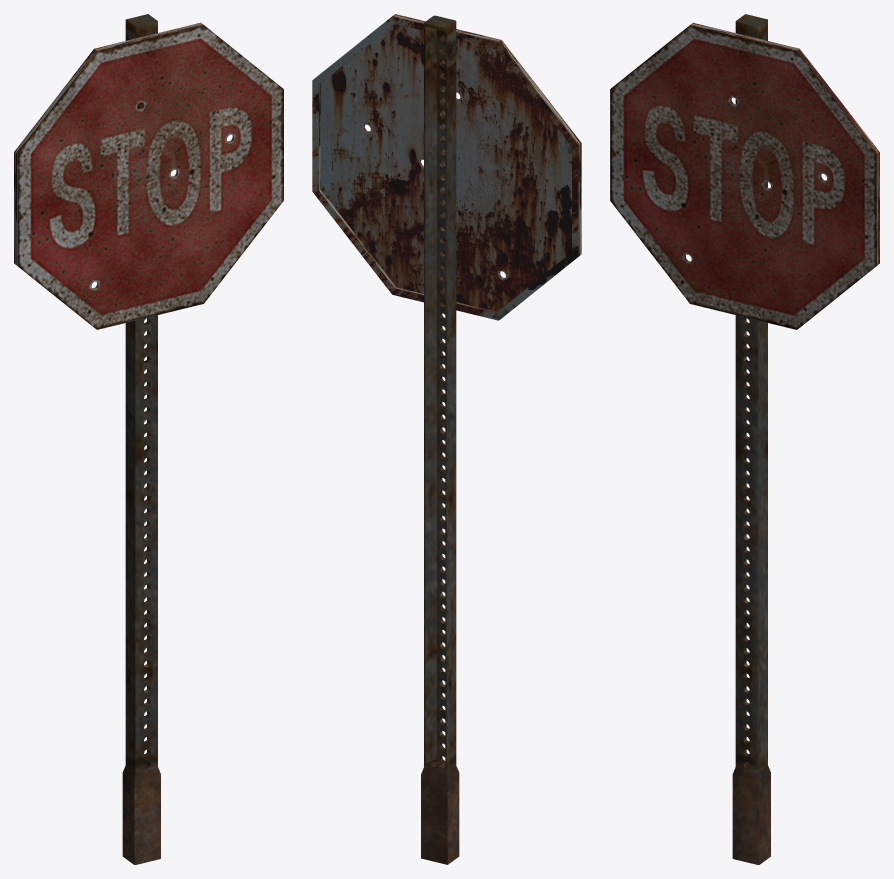
The picture shows the model from 3 angles, left to right: view 1: azimuth 30°, elevation 25°; view 2: azimuth 150°, elevation 25°; view 3: azimuth 330°, elevation 25°; orthographic projection.
Visible parts, largest first — view 1: Stop Sign_01 - Default_0, Stop Sign_08 - Default_0, Stop Sign_07 - Default_0, Stop Sign_02 - Default_0; view 2: Stop Sign_02 - Default_0, Stop Sign_08 - Default_0, Stop Sign_07 - Default_0; view 3: Stop Sign_01 - Default_0, Stop Sign_08 - Default_0, Stop Sign_07 - Default_0, Stop Sign_02 - Default_0.
Boxes of the visible parts, <box> form: Stop Sign_01 - Default_0: <box>17,25,283,329</box>; Stop Sign_08 - Default_0: <box>125,14,157,772</box>; Stop Sign_07 - Default_0: <box>122,765,160,864</box>; Stop Sign_02 - Default_0: <box>14,22,203,325</box>; Stop Sign_02 - Default_0: <box>312,14,581,320</box>; Stop Sign_08 - Default_0: <box>424,15,456,772</box>; Stop Sign_07 - Default_0: <box>421,766,459,864</box>; Stop Sign_01 - Default_0: <box>610,25,876,329</box>; Stop Sign_08 - Default_0: <box>735,14,767,772</box>; Stop Sign_07 - Default_0: <box>732,765,770,864</box>; Stop Sign_02 - Default_0: <box>690,22,879,327</box>.
Bounding box in the file's own units: 100 × 300 × 9.35.
Materials: 5 (5 with a texture image).
